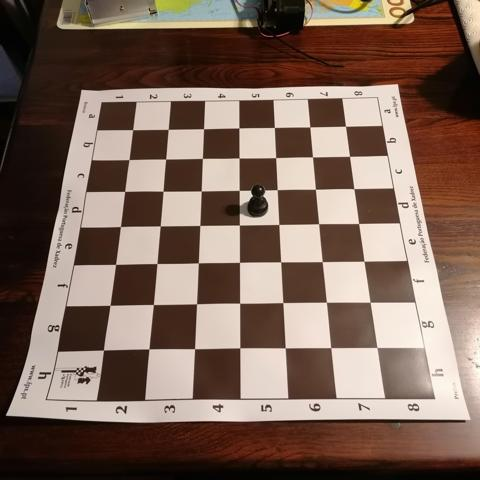xcorner: (195, 120, 212, 136), (124, 121, 140, 138), (231, 149, 247, 166), (364, 294, 381, 310), (144, 296, 161, 312), (324, 340, 341, 356), (186, 340, 202, 357), (140, 341, 157, 357), (339, 118, 355, 134), (303, 119, 319, 135), (267, 119, 283, 135), (231, 120, 247, 136), (160, 121, 176, 137), (344, 148, 360, 164), (306, 148, 322, 164), (269, 149, 285, 165), (194, 150, 210, 166), (157, 151, 173, 167), (120, 151, 136, 167), (348, 180, 364, 196), (309, 181, 325, 197), (270, 181, 286, 197), (232, 182, 248, 198), (193, 182, 209, 198), (154, 183, 170, 199), (116, 183, 132, 199), (353, 215, 369, 231), (313, 215, 329, 231), (272, 216, 288, 232), (232, 216, 248, 232), (191, 217, 207, 233), (151, 217, 167, 233), (111, 218, 127, 234), (359, 253, 375, 269), (316, 253, 332, 269), (274, 254, 290, 270), (232, 254, 248, 270), (190, 255, 206, 271), (148, 255, 164, 271), (106, 255, 122, 271), (320, 294, 336, 310), (276, 295, 292, 311), (232, 295, 248, 311), (188, 296, 204, 312), (101, 296, 117, 312), (371, 339, 387, 355), (278, 340, 294, 356), (232, 340, 248, 356), (95, 341, 111, 357)
